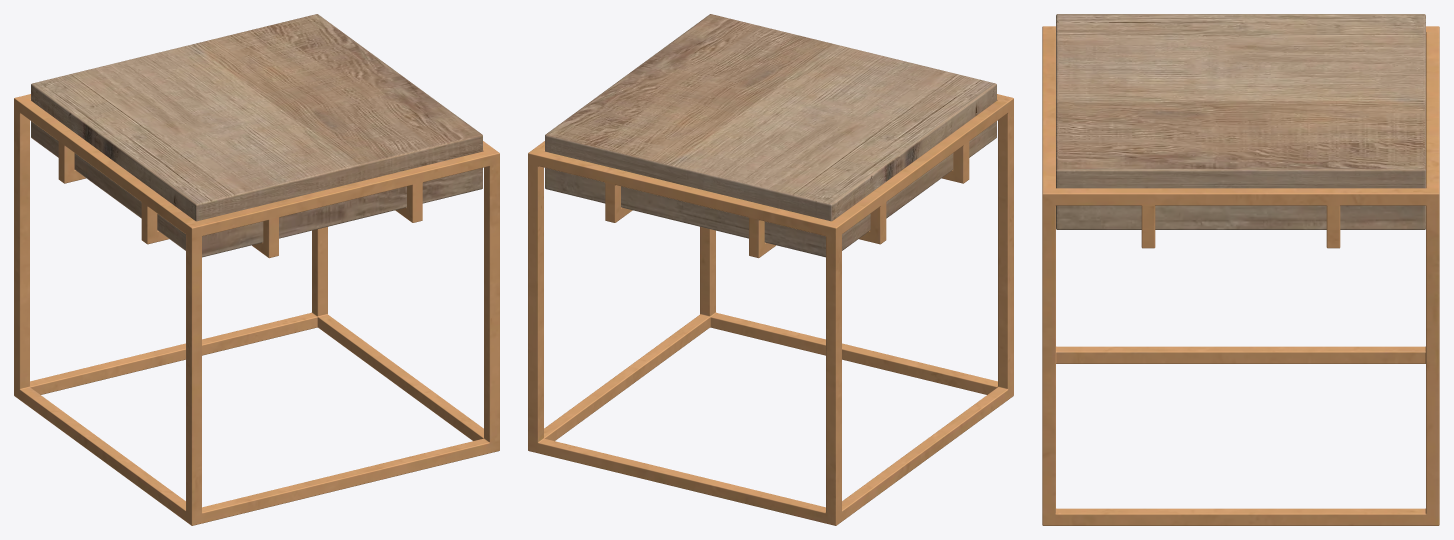
The model's file is abo-B075ZB5BK5.glb.
3 views of the same model, side by side, from view 1: azimuth 30°, elevation 25°; view 2: azimuth 150°, elevation 25°; view 3: azimuth 270°, elevation 25° (orthographic). The views are drawn at different scales.
Bounding box in the file's own units: 0.599 × 0.584 × 0.599.
Materials: 1 (1 with a texture image).
